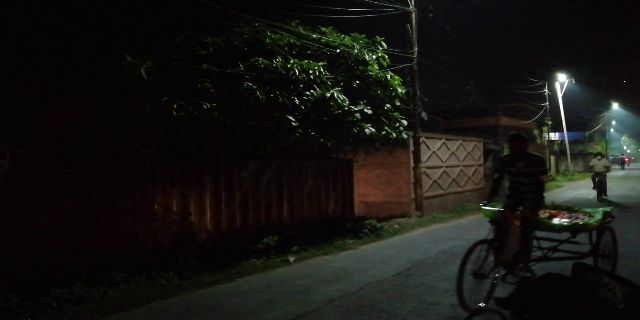Rickshaw: (449, 136, 623, 298)
